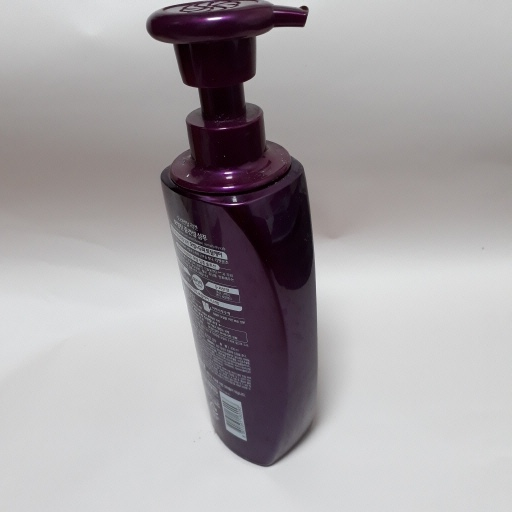Plastic_3: (139, 2, 343, 465)
